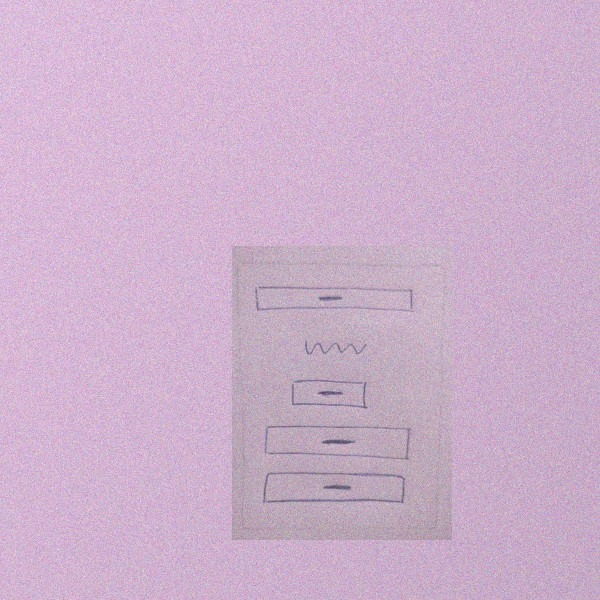button: (259, 421, 416, 464), (252, 282, 419, 321), (260, 469, 410, 508), (287, 376, 372, 415)
text: (301, 333, 368, 364)
